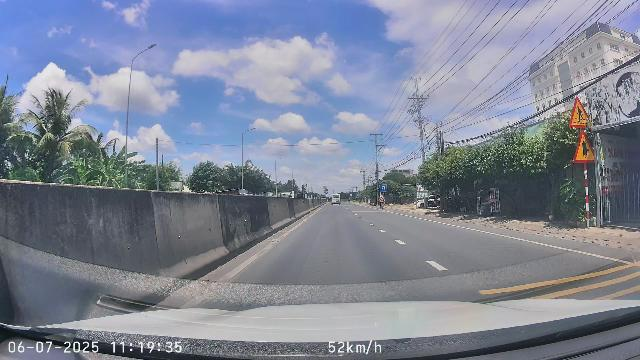207-giao-nhau-voi-duong-khong-uu-tien: (573, 130, 595, 163)
224-duong-nguoi-di-bo-cat-ngang: (569, 96, 590, 128)
